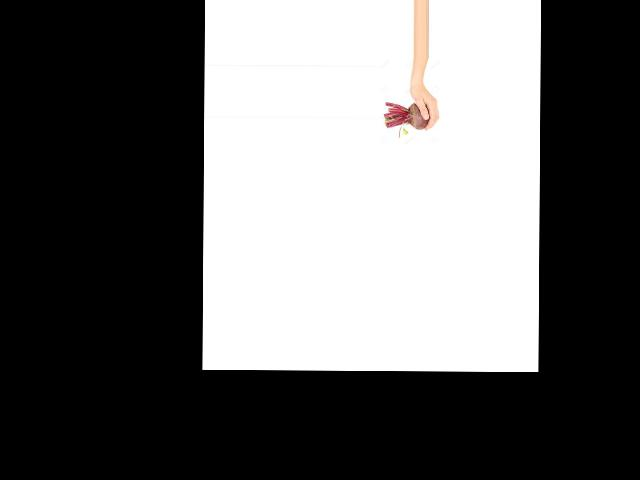beet: (384, 102, 430, 138)
